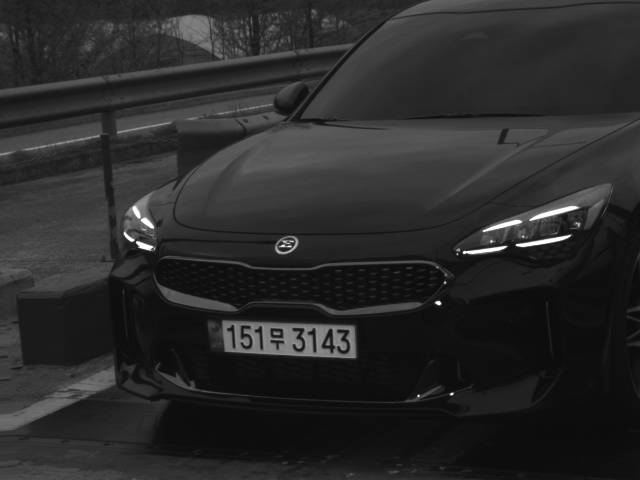car: (106, 1, 639, 423)
plate: (205, 317, 359, 361)
